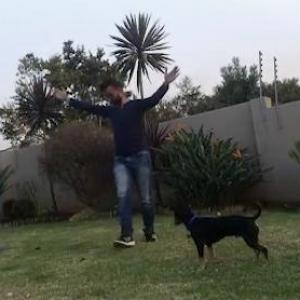takeoff: (30, 50, 169, 234)
